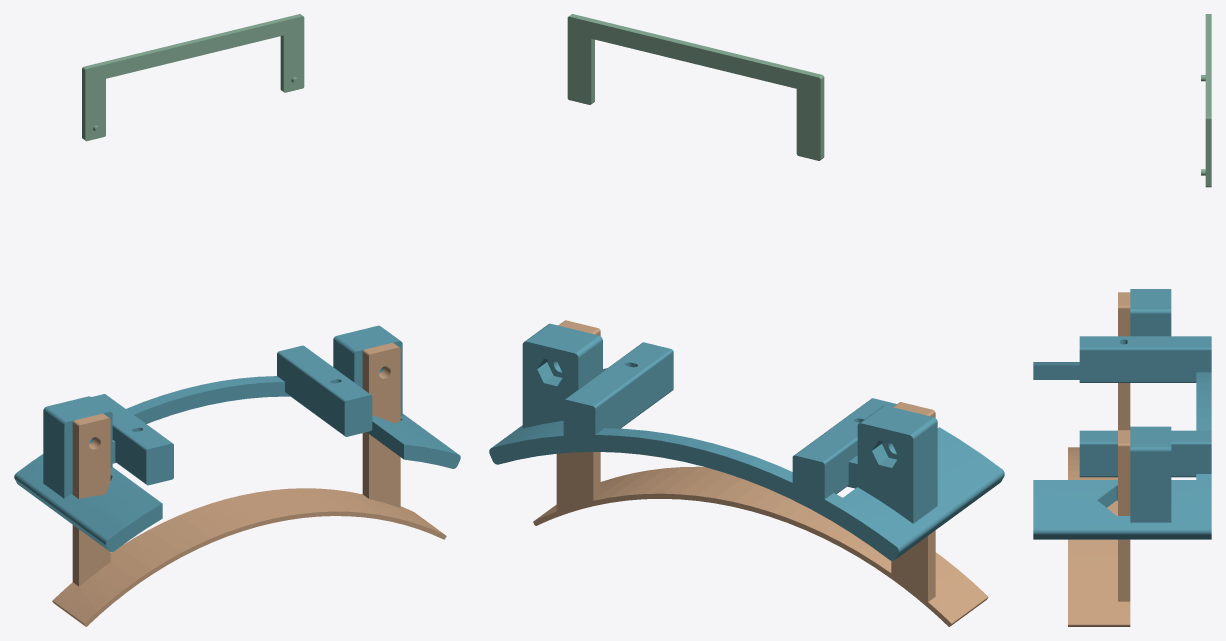
The model's file is R08_ASSIEME_PLASTICA.glb.
The picture shows the model from 3 angles, left to right: view 1: azimuth 30°, elevation 25°; view 2: azimuth 150°, elevation 25°; view 3: azimuth 270°, elevation 25°; orthographic projection. The views are drawn at different scales.
Parts seen in each view (by area): view 1: base_appoggi, ponte_terminale, dima_interasse; view 2: base_appoggi, ponte_terminale, dima_interasse; view 3: base_appoggi, ponte_terminale, dima_interasse.
Boxes of the visible parts, left/top/right/bottom form: base_appoggi: left=14, top=325, right=460, bottom=552; ponte_terminale: left=52, top=342, right=446, bottom=626; dima_interasse: left=82, top=14, right=304, bottom=141; base_appoggi: left=489, top=323, right=1004, bottom=560; ponte_terminale: left=533, top=320, right=988, bottom=626; dima_interasse: left=567, top=14, right=824, bottom=160; base_appoggi: left=1033, top=289, right=1211, bottom=539; ponte_terminale: left=1068, top=292, right=1130, bottom=626; dima_interasse: left=1201, top=14, right=1211, bottom=187.
Size of the model in its own units: 0.105 by 0.1354 by 0.046.
